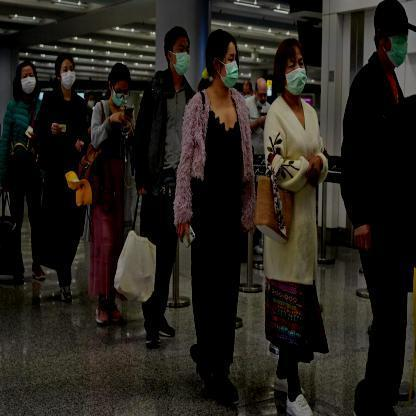with_mask: (371, 1, 413, 77), (270, 35, 312, 101), (202, 28, 242, 95), (161, 24, 195, 84), (105, 58, 135, 111), (11, 54, 40, 98), (52, 50, 78, 94), (85, 88, 99, 110)
without_mask: (253, 77, 269, 109)
